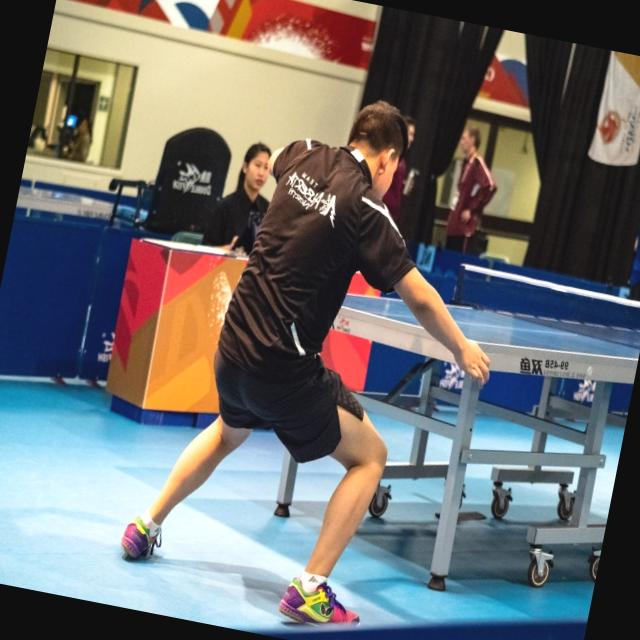TT Net: (445, 254, 640, 350)
TT Table: (338, 294, 640, 359), (18, 184, 148, 212)
